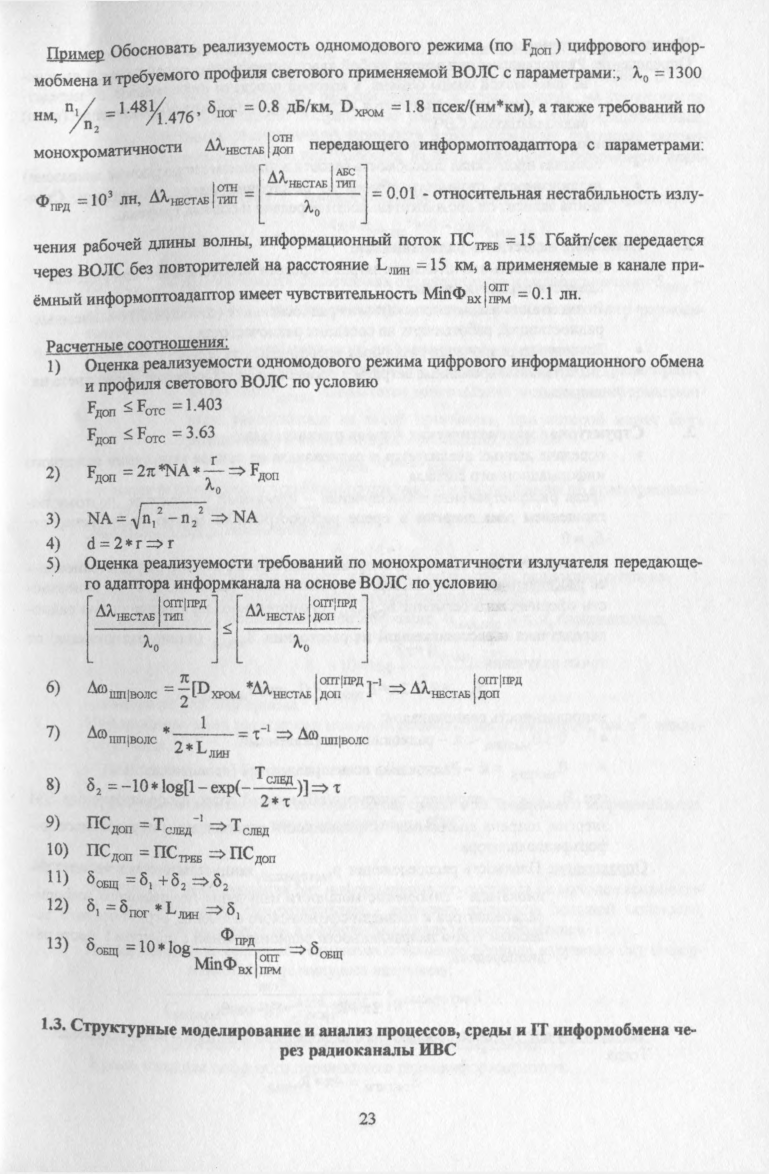F.доп: (87, 461, 113, 486)
L.лин: (196, 739, 229, 760), (168, 898, 197, 920)
NA: (84, 507, 113, 529), (164, 459, 189, 478)
T.след: (254, 765, 293, 788), (153, 816, 193, 837)
d: (85, 536, 96, 552)
n.1: (141, 512, 154, 528)
n.2: (180, 507, 197, 527)
r: (208, 452, 220, 467), (135, 538, 145, 551)
Δω.шп.волс: (86, 720, 160, 748), (82, 681, 158, 702)
δ.1: (134, 870, 155, 891), (83, 895, 101, 919)
δ.2: (85, 771, 102, 801), (169, 870, 191, 893)
δ.общ: (80, 932, 122, 960), (83, 867, 123, 891)
δ.пог: (116, 896, 153, 924)
λ.0: (200, 475, 220, 494)
τ: (248, 729, 264, 746), (280, 794, 297, 809)
ПС.доп: (85, 812, 132, 839), (87, 842, 133, 866)
ПС.треб: (150, 841, 206, 867)
Ф.вх.опт.прм: (225, 954, 281, 979)
Ф.прд: (219, 925, 260, 946)
